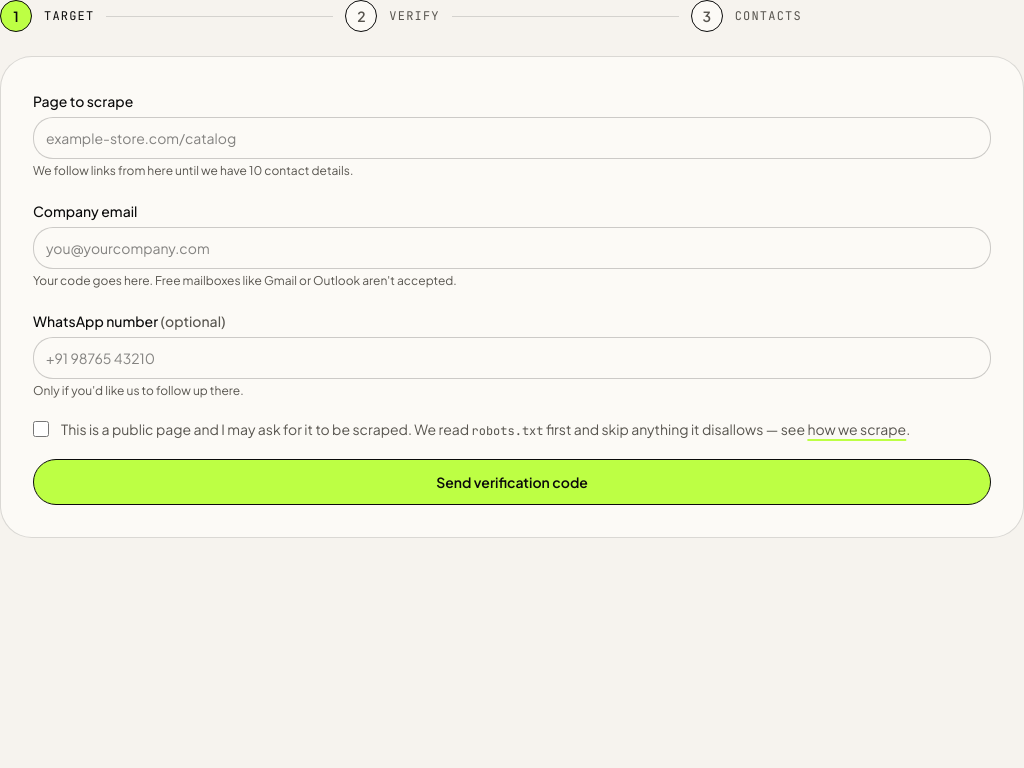
Live demo › shows the server's message when a code can't be sent
Type "example-store.com" into the field labelled "Page to scrape" at (512, 138), box [33, 117, 991, 159]
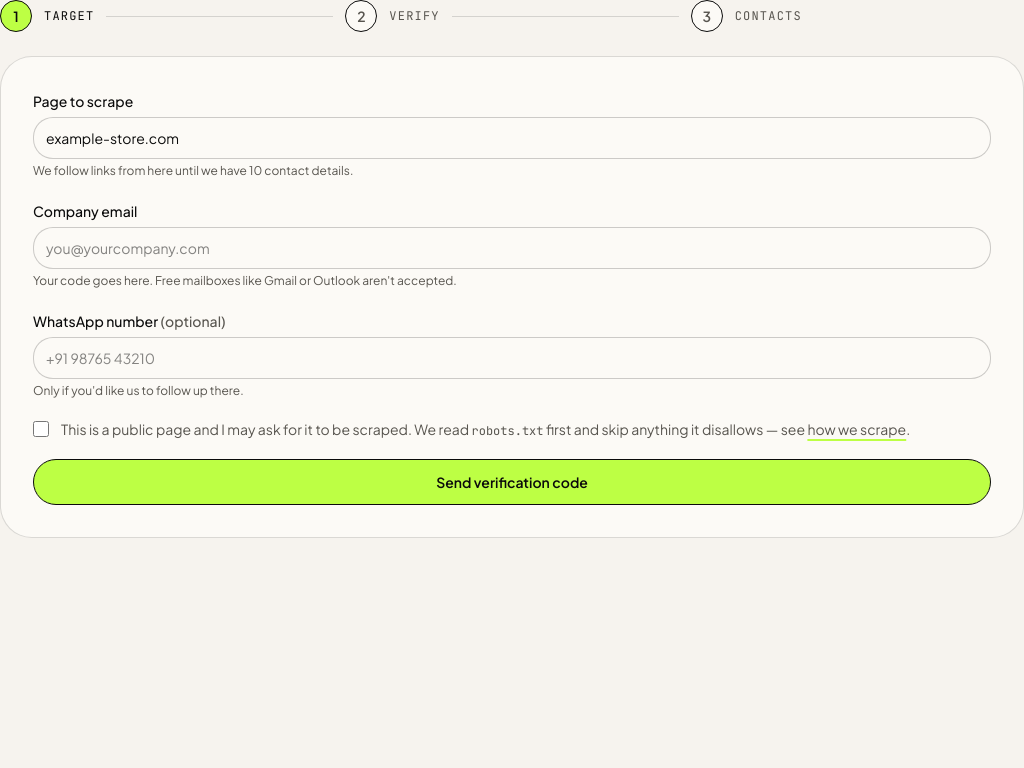
Type "buyer@northwind-logistics.com" into the field labelled "Company email" at (512, 248), box [33, 227, 991, 269]
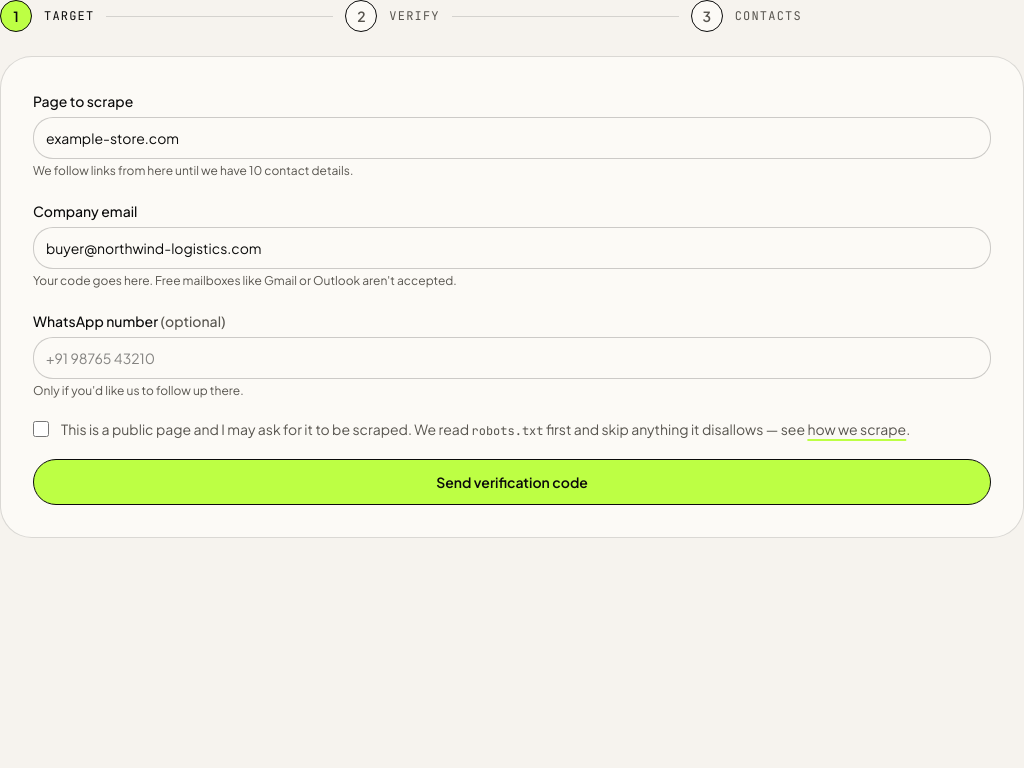
Click the checkbox at (41, 429), box [33, 421, 49, 437]
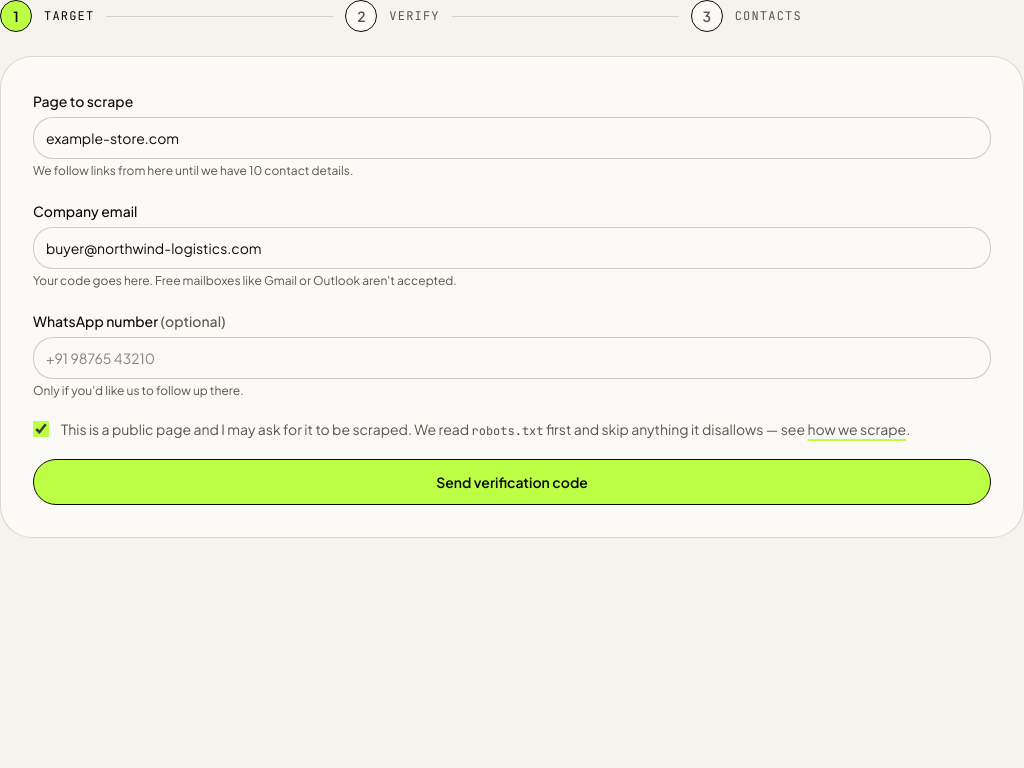
Click the button "Send verification code" at (512, 482), box [33, 459, 991, 505]
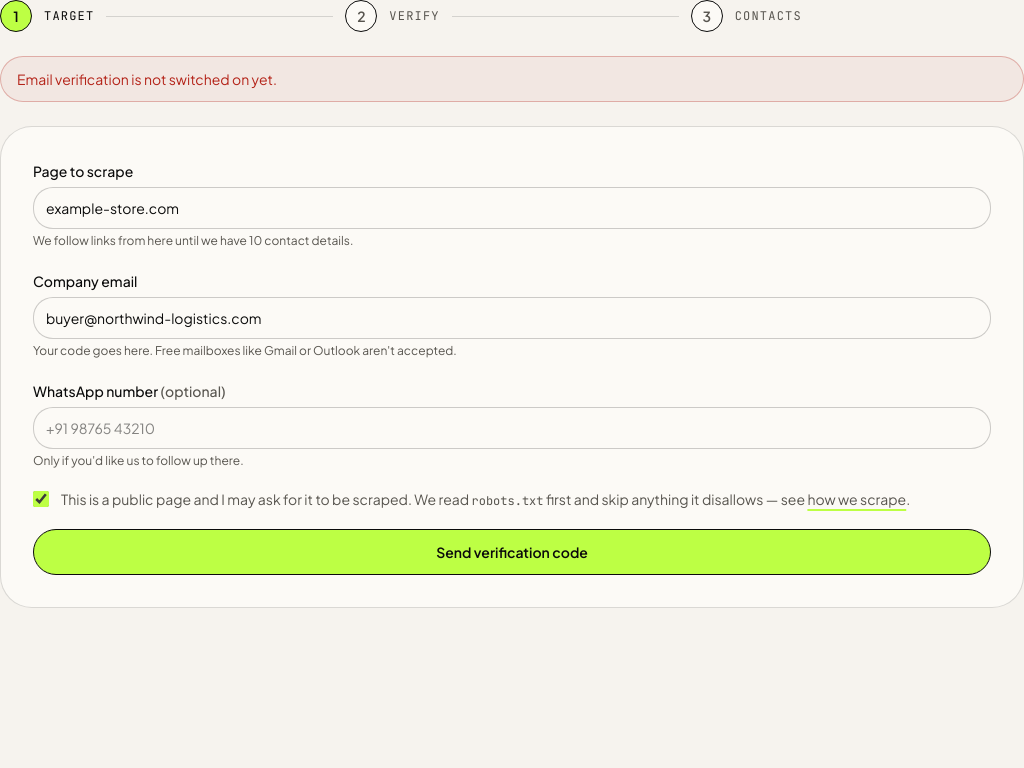
Now the message reads "Email verification is not switched on yet.", box [17, 70, 277, 88]
